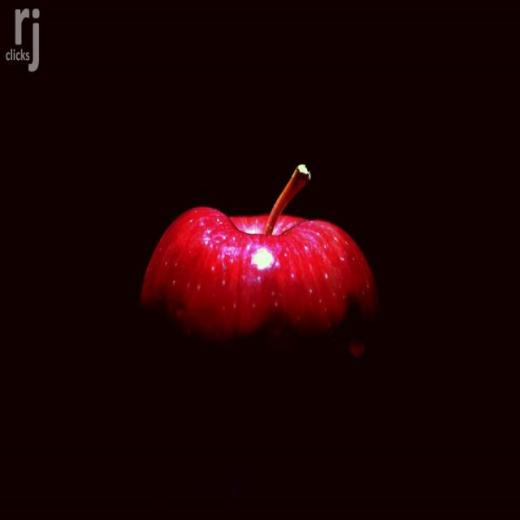Apple: (139, 162, 379, 358)
